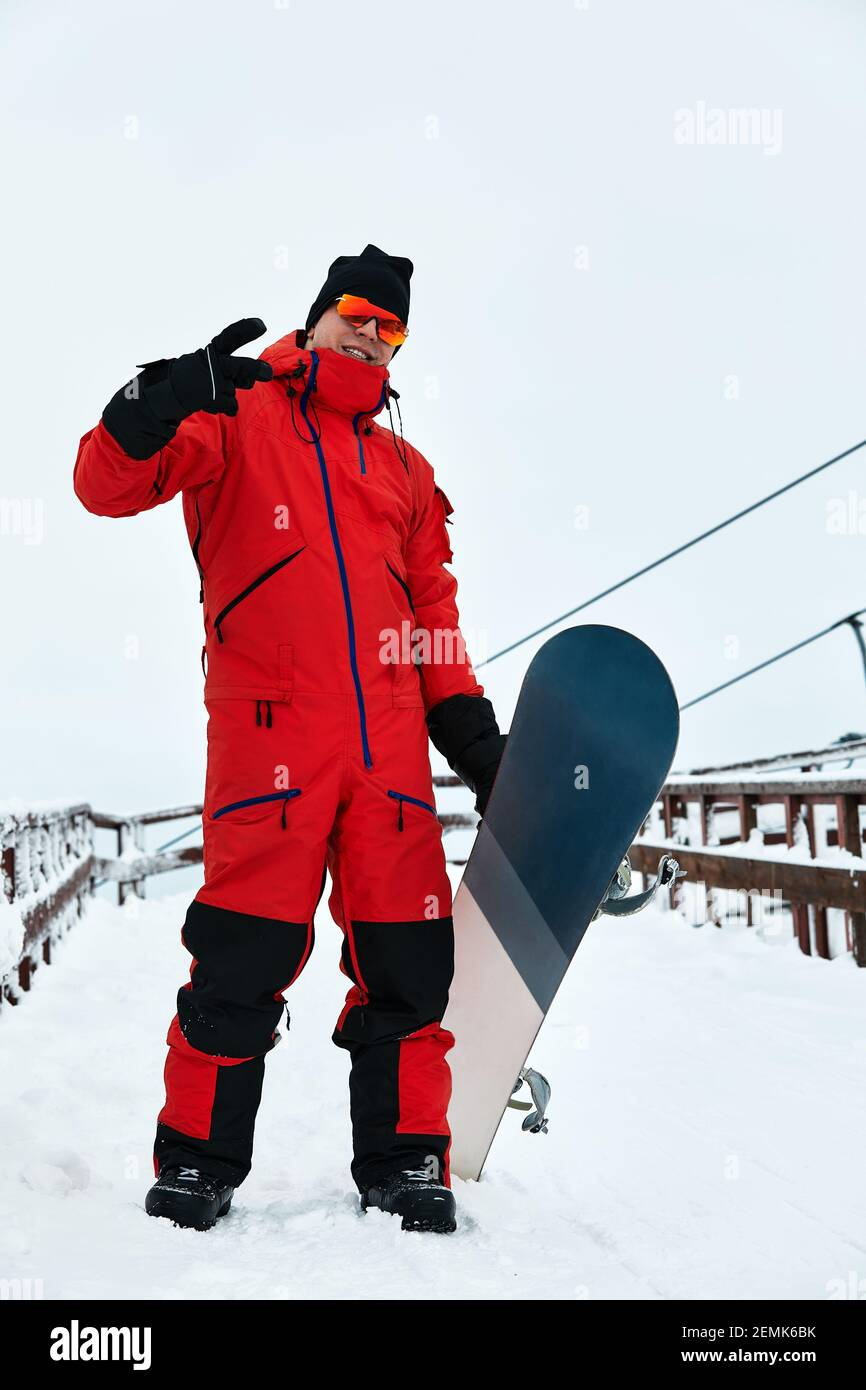snowboarder: (88, 198, 696, 1253)
